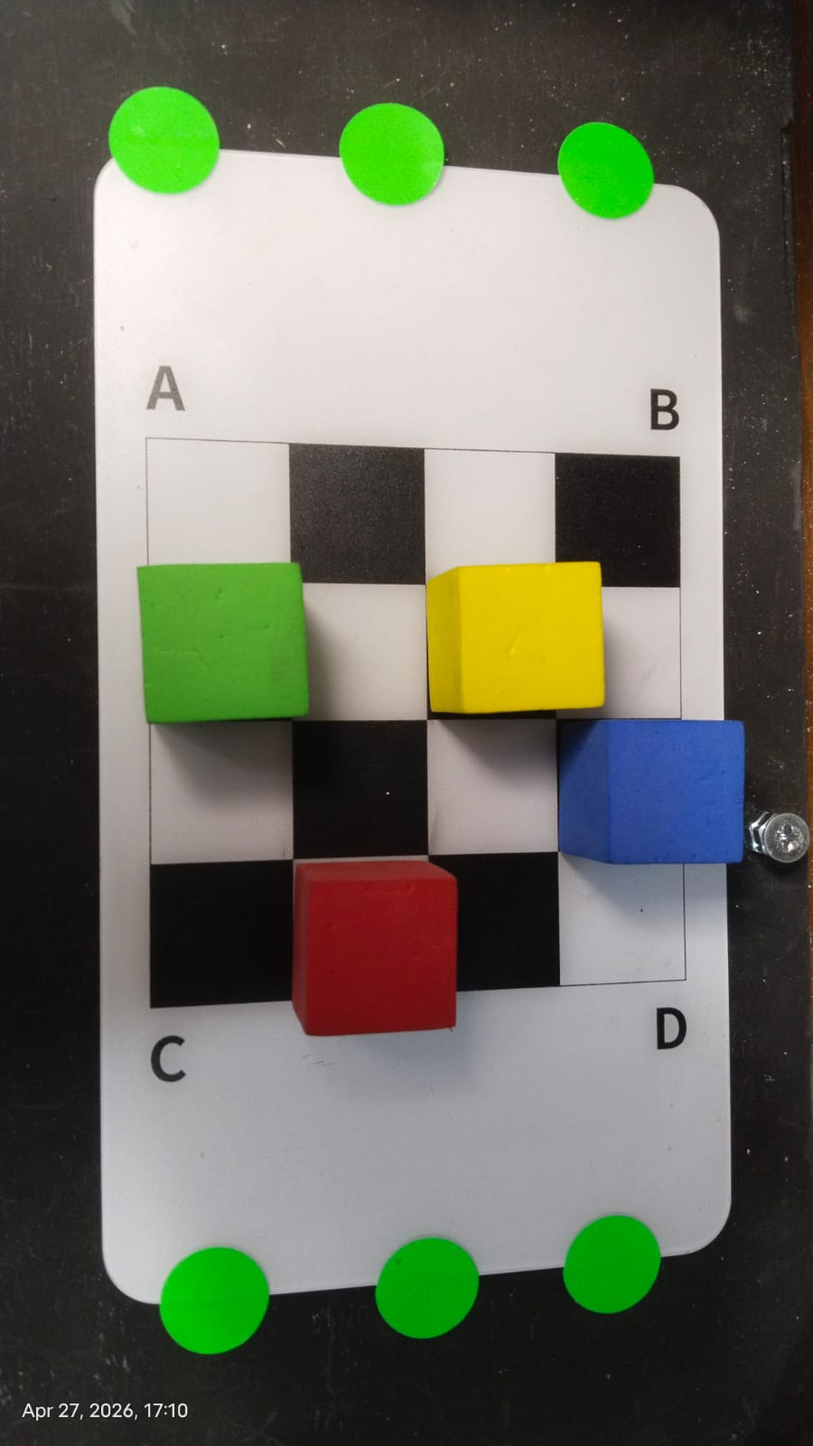blue: (556, 711, 754, 874)
green: (129, 559, 318, 731)
red: (284, 854, 466, 1046)
yellow: (423, 563, 609, 721)
